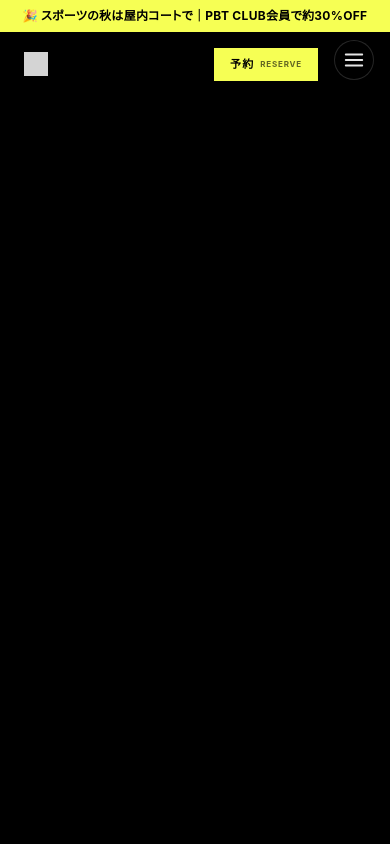
Test: HomeNavigation › ハンバーガーメニューの開閉
The image size is (390, 844).
Click the button named "メニューを開く": [354, 60] box [334, 40, 374, 80]
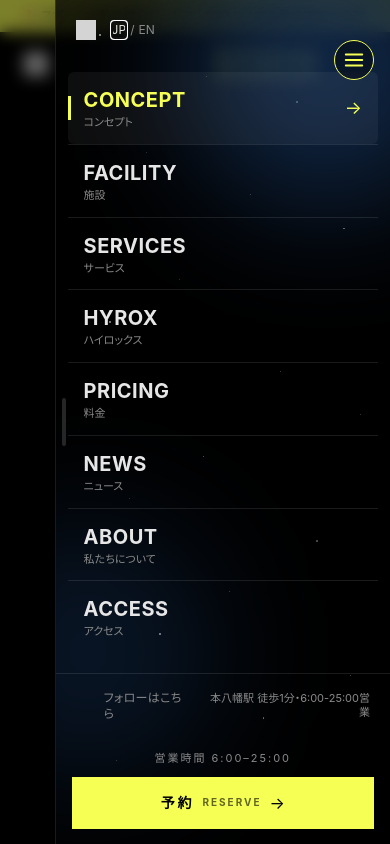
Check: the dialog is shown
Check: the button named "メニューを閉じる" is shown
Click the button named "メニューを閉じる": [354, 60] box [334, 40, 374, 80]
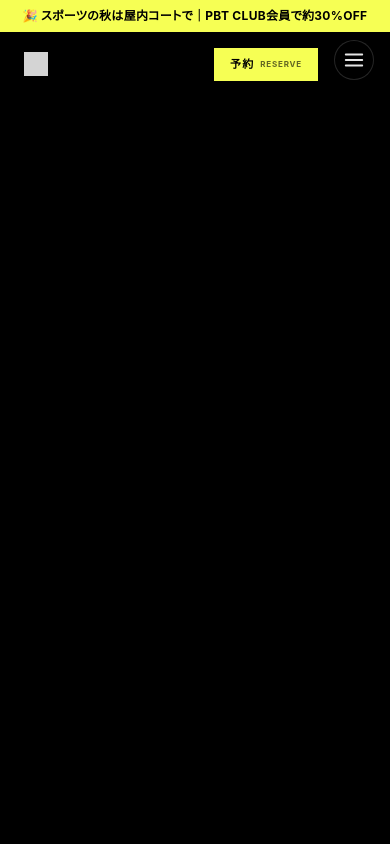
Check: the dialog is gone
